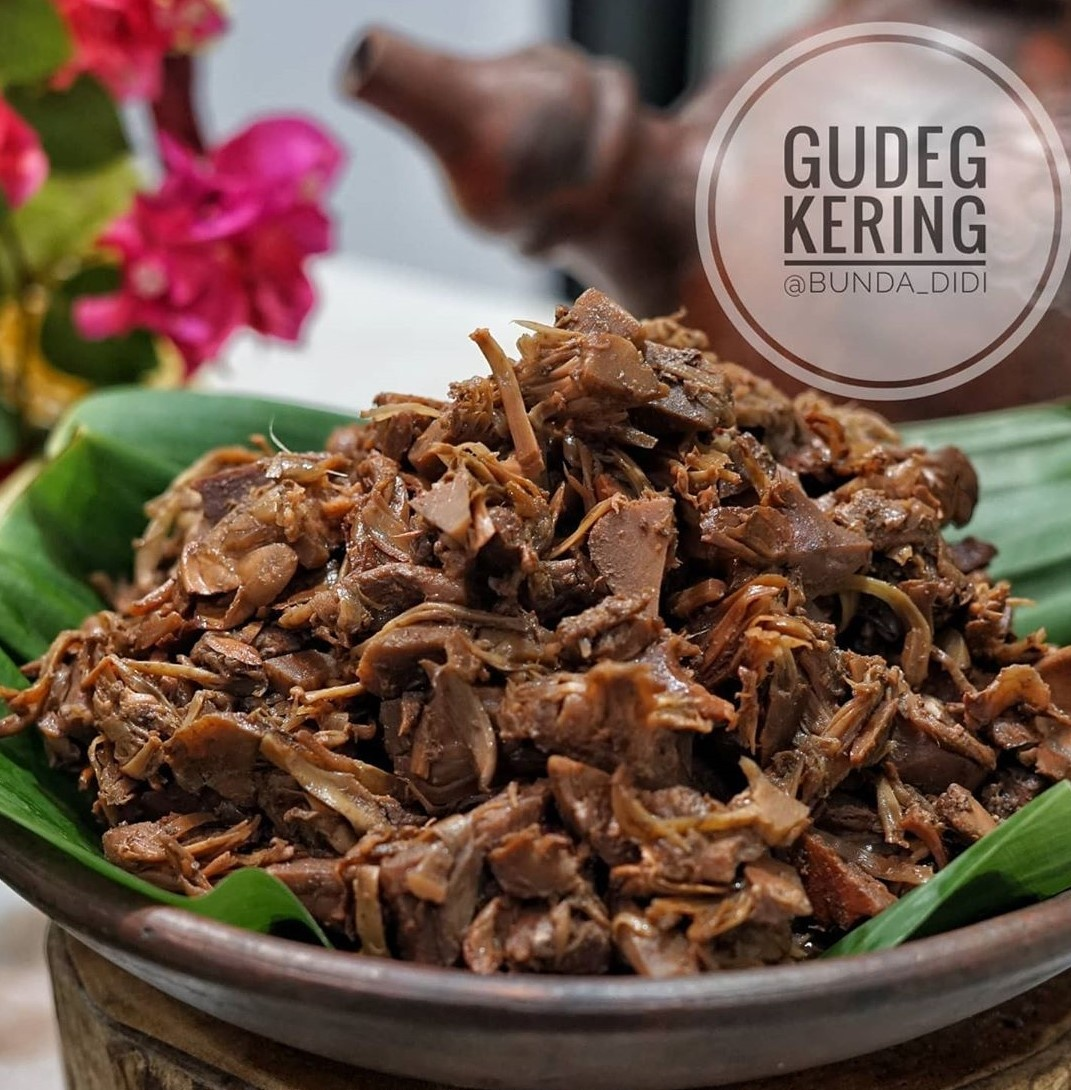gudeg: (9, 285, 1071, 952)
